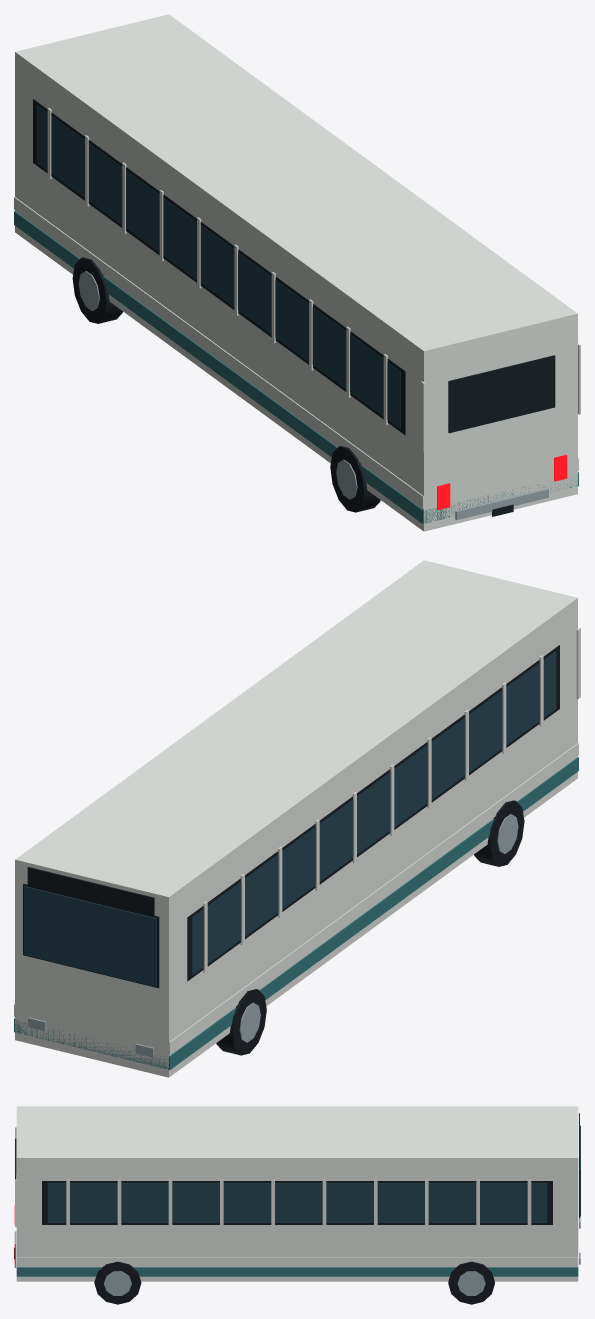
The model's file is traffic-bus.glb.
The picture shows the model from 3 angles, top to bottom: view 1: azimuth 30°, elevation 25°; view 2: azimuth 150°, elevation 25°; view 3: azimuth 270°, elevation 25°; orthographic projection. The views are drawn at different scales.
Visible parts, largest first — view 1: lod_body, lod_glass, lod_dark, lod_accent, lod_metal, brake_lights; view 2: lod_body, lod_glass, lod_dark, lod_accent, lod_metal; view 3: lod_body, lod_glass, lod_accent, lod_dark, lod_metal.
Boxes of the visible parts, x1,y1,x2,y2 form: lod_body: [14, 14, 580, 531]; lod_glass: [36, 105, 400, 429]; lod_dark: [33, 99, 555, 516]; lod_accent: [14, 211, 578, 523]; lod_metal: [78, 271, 548, 520]; brake_lights: [437, 455, 567, 509]; lod_body: [14, 560, 580, 1077]; lod_glass: [24, 651, 556, 986]; lod_dark: [23, 645, 559, 1055]; lod_accent: [14, 757, 578, 1069]; lod_metal: [28, 814, 518, 1057]; lod_body: [15, 1106, 578, 1281]; lod_glass: [47, 1125, 580, 1222]; lod_accent: [16, 1267, 578, 1276]; lod_dark: [14, 1113, 579, 1304]; lod_metal: [14, 1216, 580, 1295].
Bounding box in the file's own units: 2.63 × 3.3 × 11.61.
